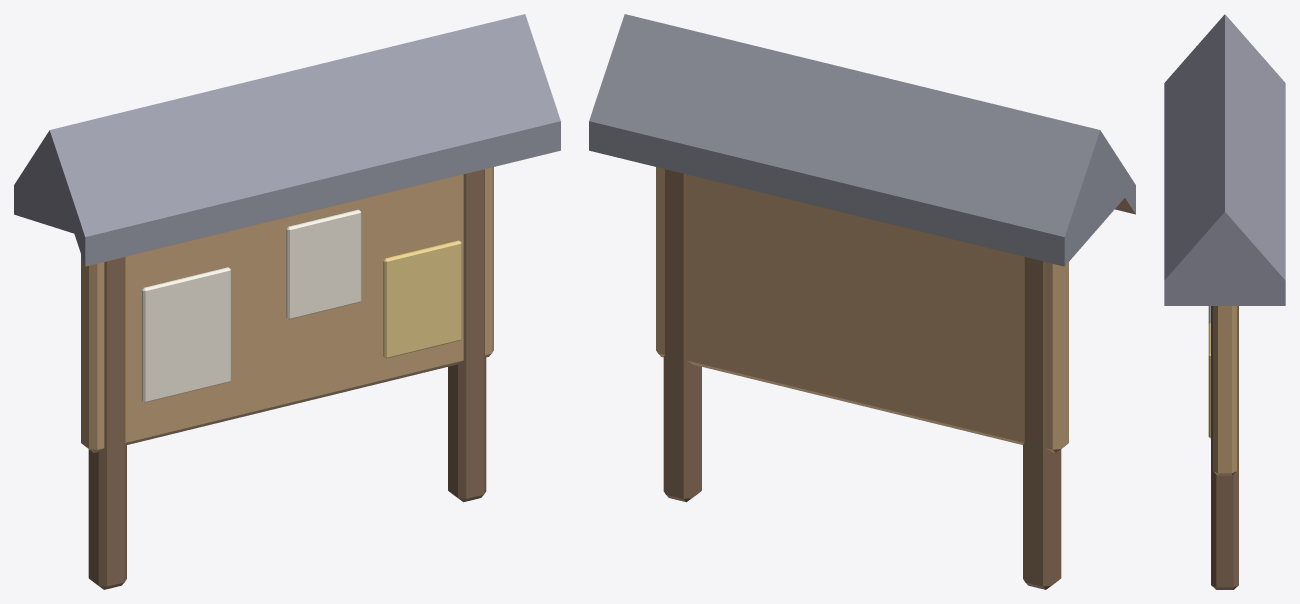
The model's file is notice-board.glb.
The picture shows the model from 3 angles, left to right: view 1: azimuth 30°, elevation 25°; view 2: azimuth 150°, elevation 25°; view 3: azimuth 270°, elevation 25°; orthographic projection. The views are drawn at different scales.
Parts seen in each view (by area): view 1: notice-board; view 2: notice-board; view 3: notice-board.
Part boxes in pixels (bbox=[...]): notice-board: bbox=[14, 14, 560, 589]; notice-board: bbox=[589, 14, 1135, 589]; notice-board: bbox=[1164, 14, 1285, 589].
Size of the model in its own units: 2.7 by 2.54 by 0.7002.
